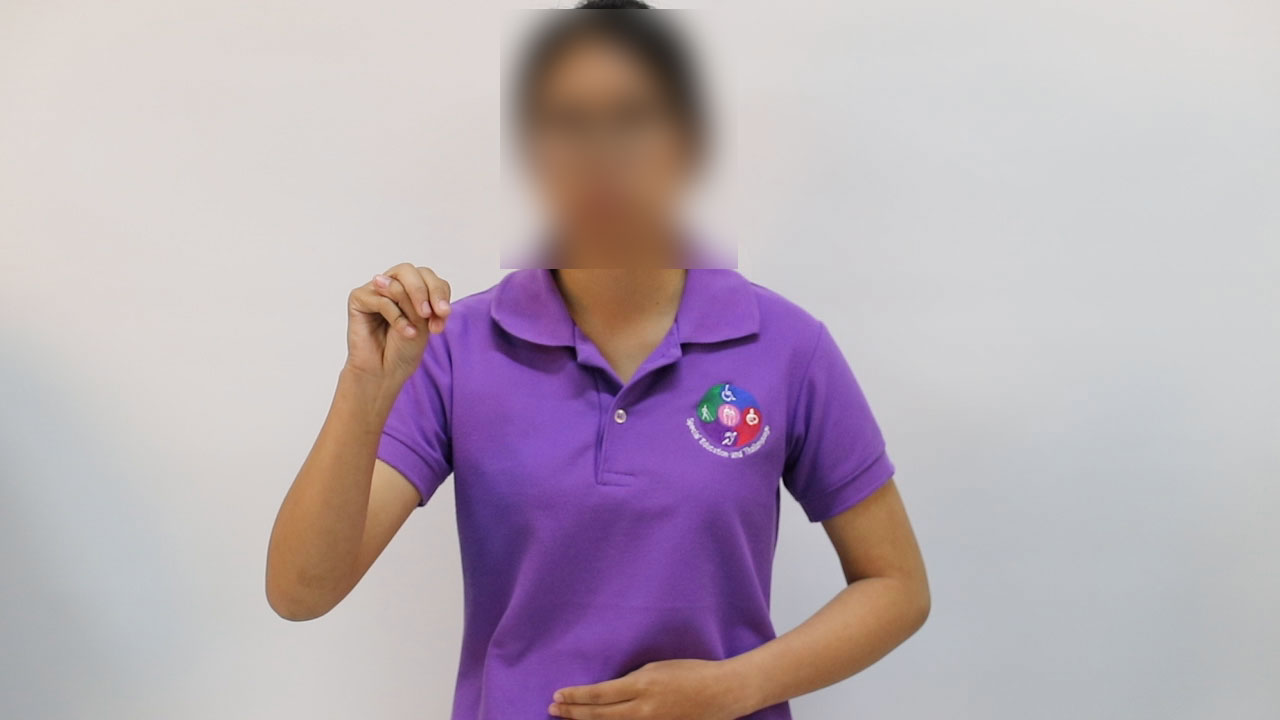mor: (327, 232, 462, 406)
